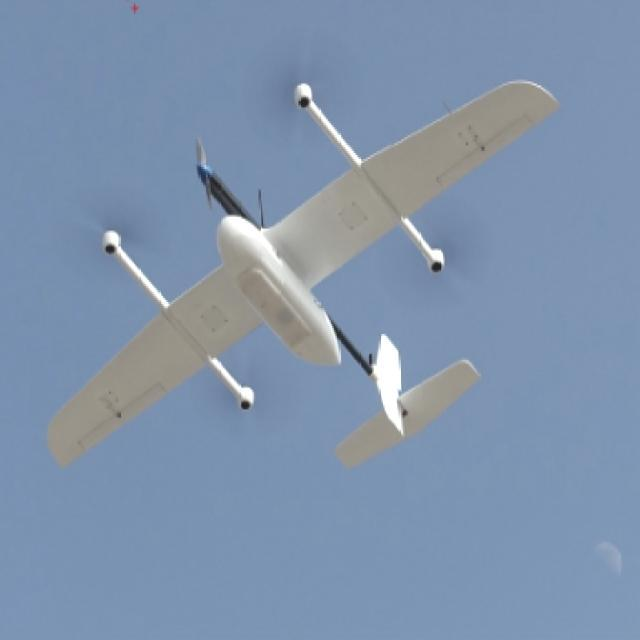iha: (47, 64, 565, 478)
